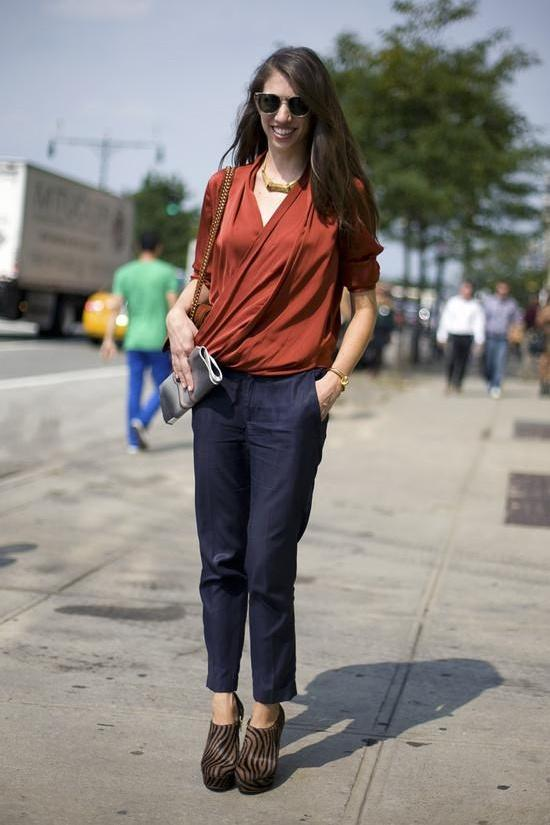Tshirt: (190, 152, 384, 377)
pants: (190, 362, 330, 700)
